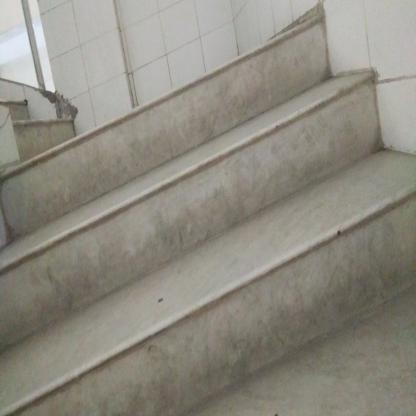stairs: (106, 126, 317, 416)
